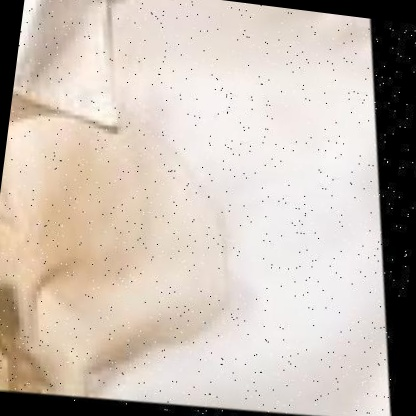coffee: (0, 196, 132, 366)
